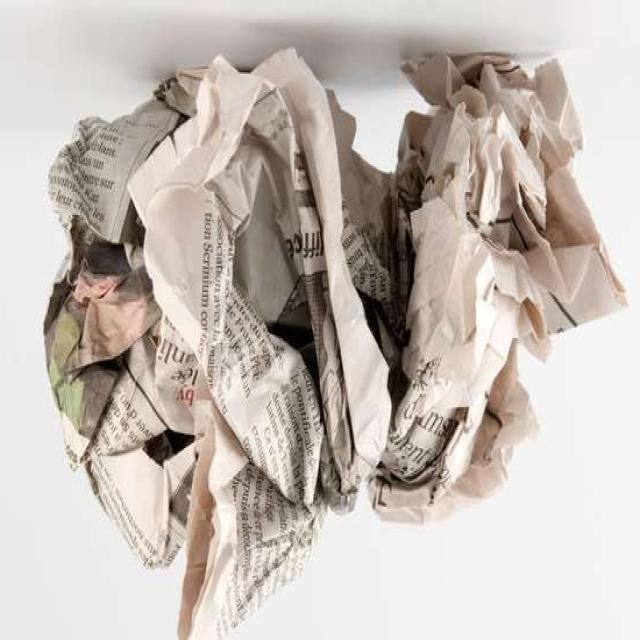newspaper: (51, 37, 618, 624)
